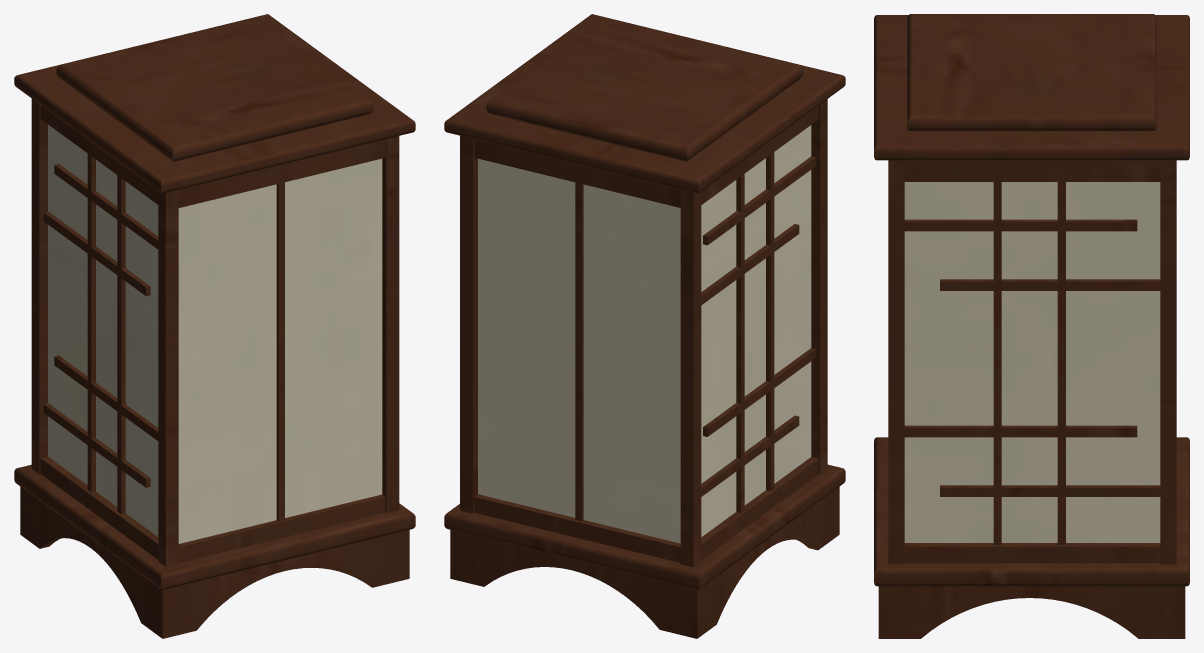
Rendered from SM_JapaneseLantern_1a4c93.glb.
The picture shows the model from 3 angles, left to right: view 1: azimuth 30°, elevation 25°; view 2: azimuth 150°, elevation 25°; view 3: azimuth 270°, elevation 25°; orthographic projection. The views are drawn at different scales.
Bounding box in the file's own units: 0.2209 × 0.3935 × 0.2209.
1 material, 1 textured.
